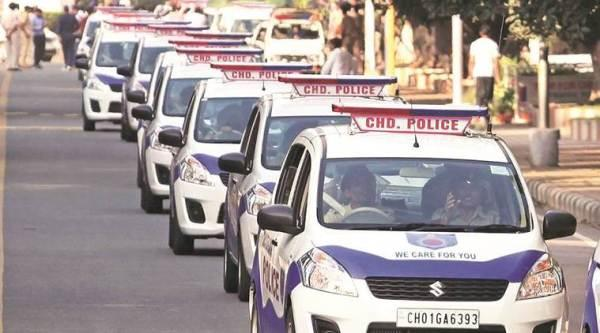Emergency-Vehicles: (264, 110, 554, 333), (250, 81, 413, 266), (184, 61, 305, 231), (158, 57, 277, 165), (154, 24, 283, 120), (94, 17, 168, 108), (138, 27, 204, 128), (84, 0, 150, 67)
